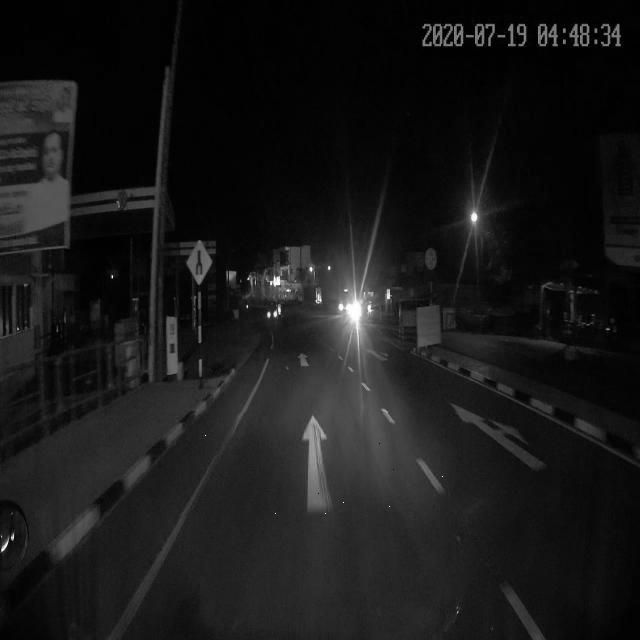forward: (177, 413, 464, 516)
